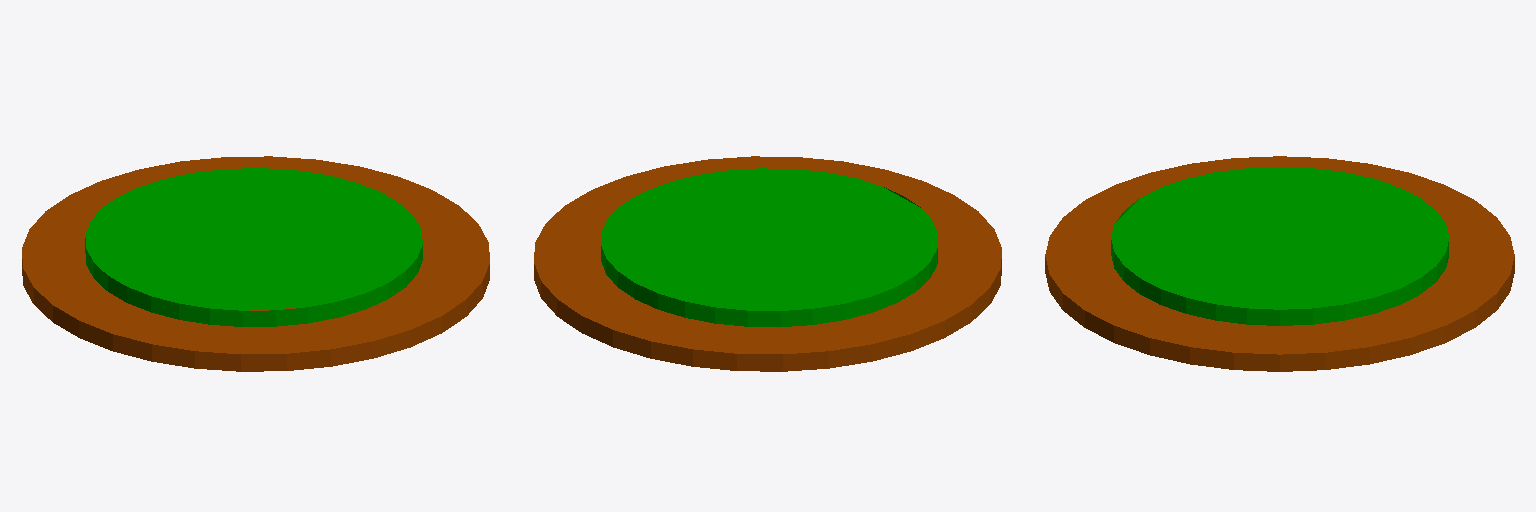
Rendered from start.obj.
The picture shows the model from 3 angles: view 1: azimuth 30°, elevation 25°; view 2: azimuth 150°, elevation 25°; view 3: azimuth 270°, elevation 25°; orthographic projection.
Visible parts, largest first — view 1: Circle.001_Circle.003; view 2: Circle.001_Circle.003; view 3: Circle.001_Circle.003.
Boxes of the visible parts, x1=… form: Circle.001_Circle.003: x1=22, y1=156, x2=489, y2=371; Circle.001_Circle.003: x1=534, y1=156, x2=1001, y2=371; Circle.001_Circle.003: x1=1045, y1=156, x2=1514, y2=371.
Bounding box in the file's own units: 2 × 0.158 × 2.